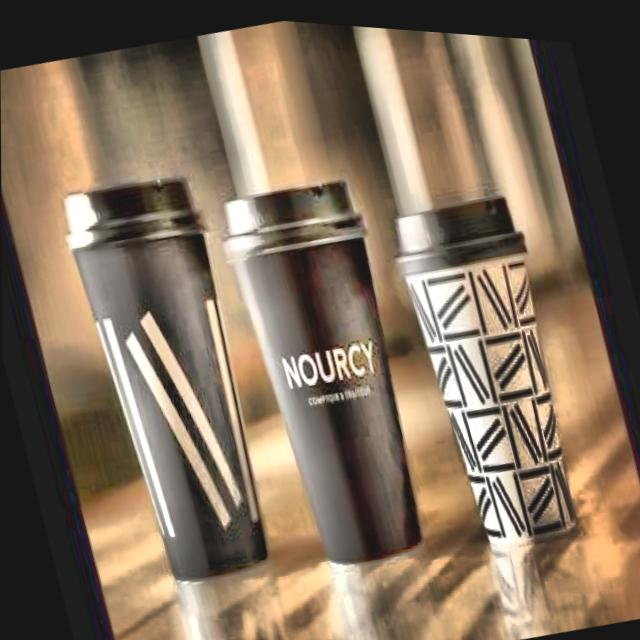Cup: (42, 164, 291, 588), (225, 188, 452, 588), (388, 192, 599, 569)
